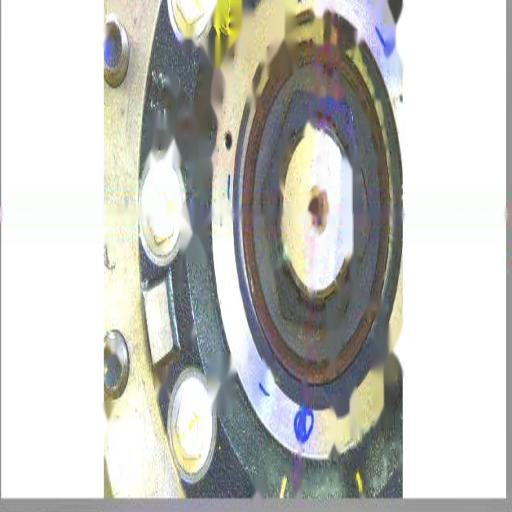center: (308, 192, 321, 221)
notch: (320, 56, 336, 86)
